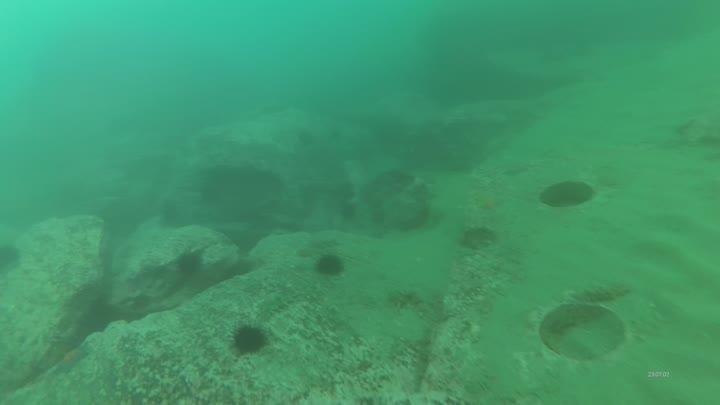echinus: (229, 321, 270, 357), (312, 250, 347, 280), (173, 248, 205, 280), (1, 240, 23, 275), (296, 126, 316, 145)
holothurian: (386, 287, 445, 322), (568, 277, 633, 308), (253, 288, 290, 325), (295, 236, 338, 256)
starfish: (50, 340, 92, 377), (470, 187, 506, 214)
